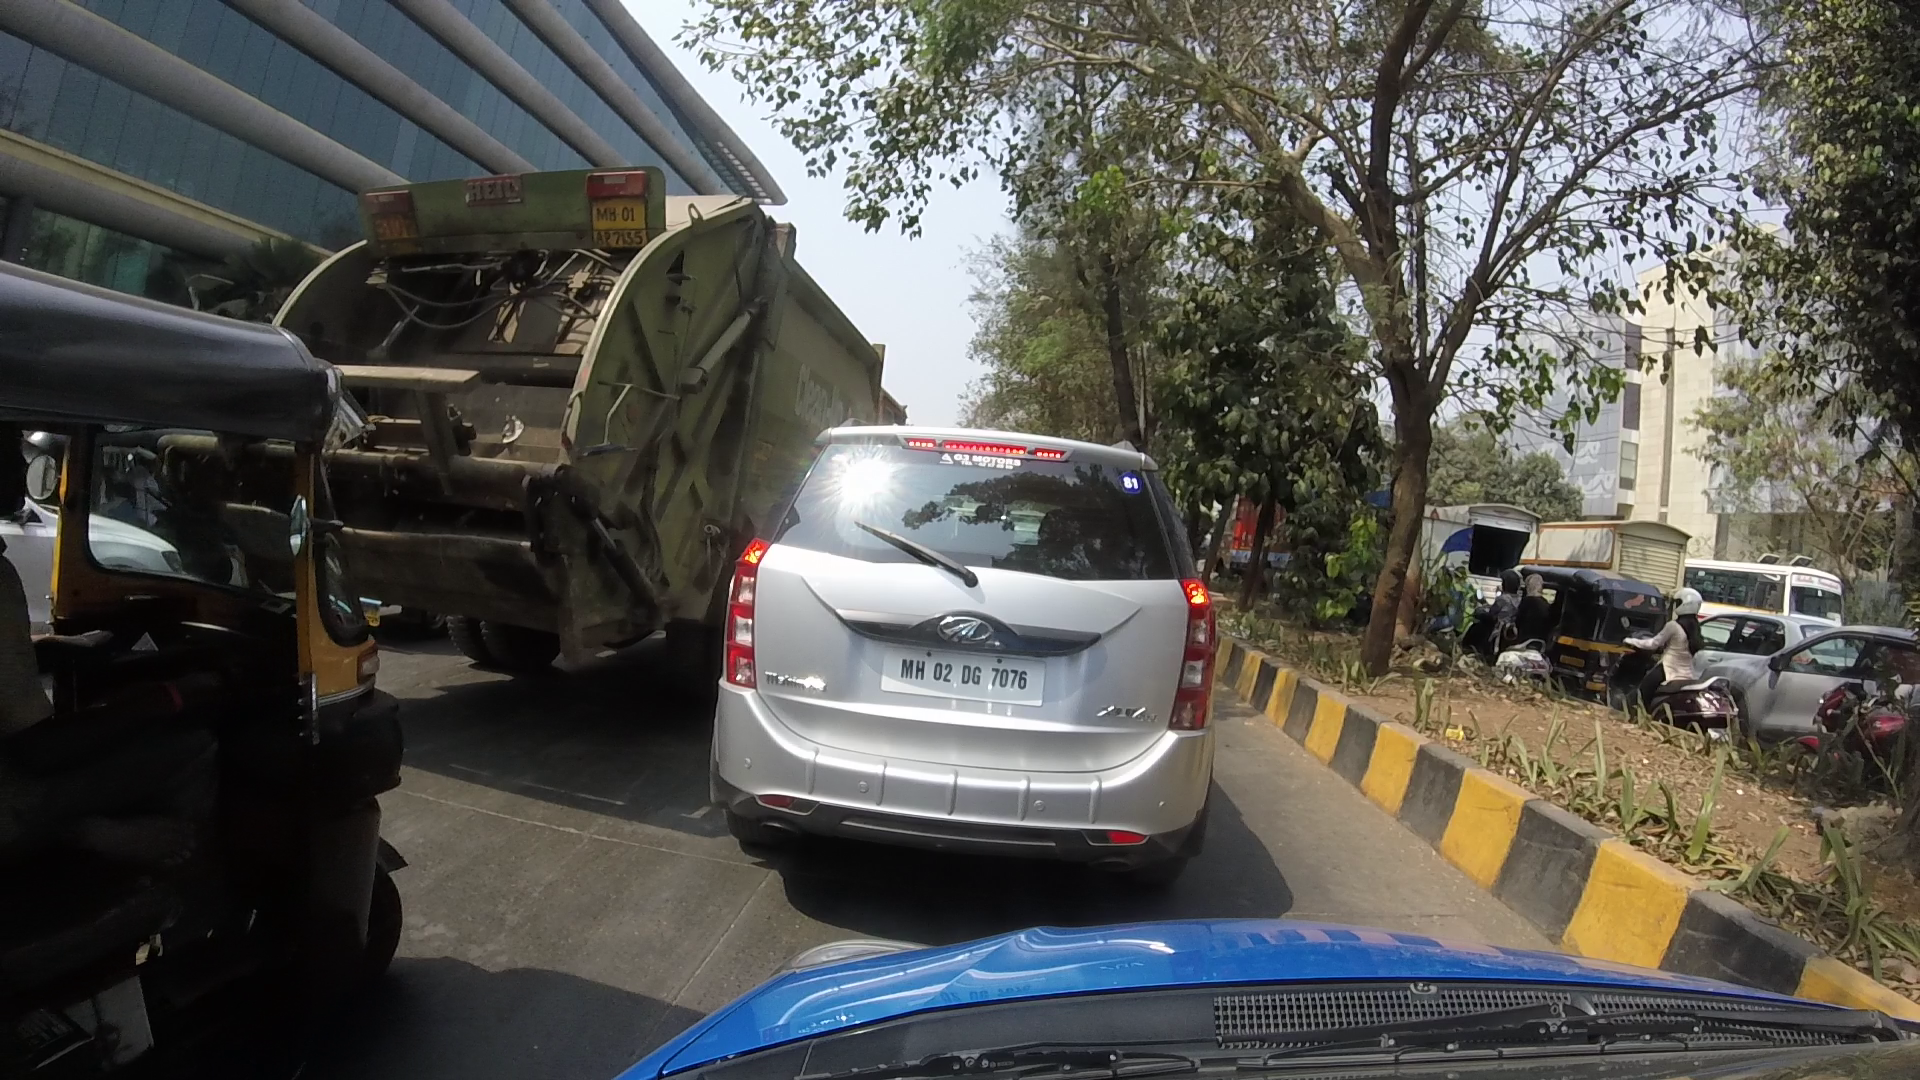car: (724, 363, 1218, 872)
rickshaw: (1, 245, 411, 1072)
truck: (313, 131, 910, 680)
